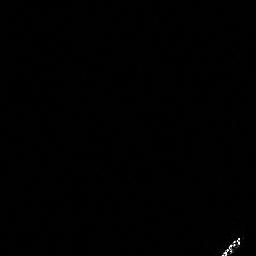ship: (218, 234, 242, 256)
